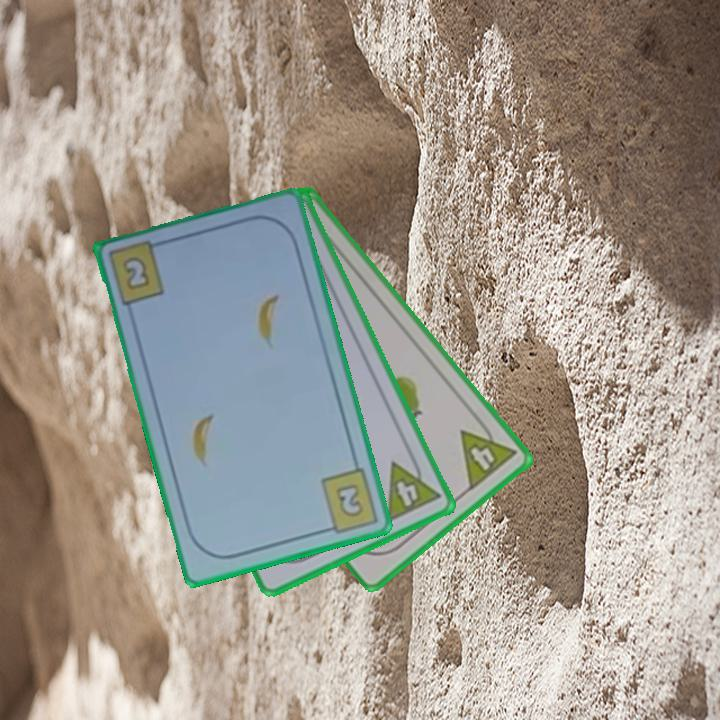2b: (317, 464, 381, 537), (119, 253, 154, 294)
4p: (456, 413, 520, 494), (382, 449, 443, 526)
